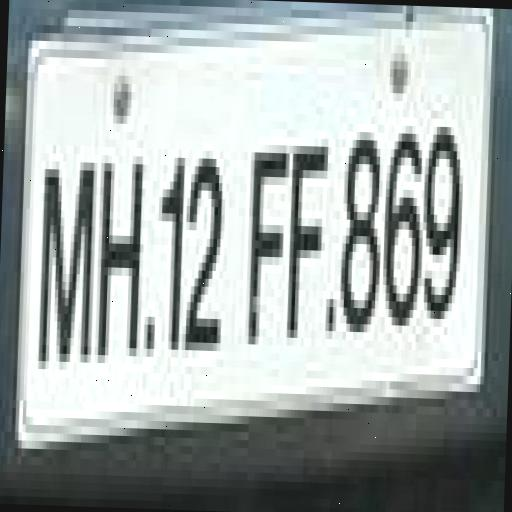number plate: (1, 0, 493, 439)
